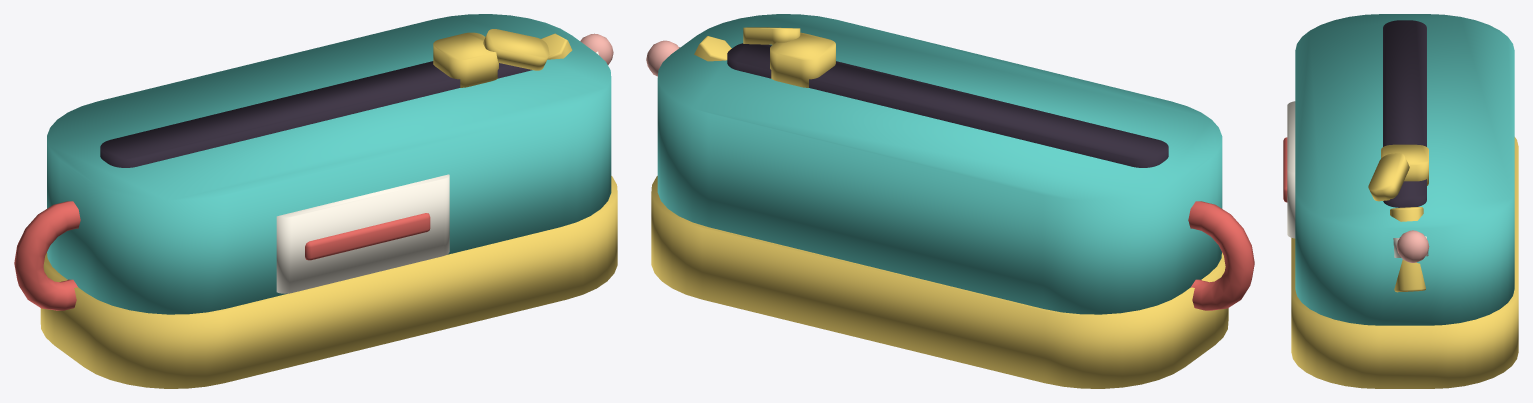
Rendered from pencil-case.glb.
3 renders of one model, left to right at view 1: azimuth 30°, elevation 25°; view 2: azimuth 150°, elevation 25°; view 3: azimuth 270°, elevation 25°, orthographic. The views are drawn at different scales.
Visible parts, largest first — view 1: ClutterPencilCase_Body, ClutterPencilCase_ButterTrim, ClutterPencilCase_ZipperAndPad, ClutterPencilCase_CreamTag, ClutterPencilCase_CoralAccents, ClutterPencilCase_PeachEraser; view 2: ClutterPencilCase_Body, ClutterPencilCase_ButterTrim, ClutterPencilCase_ZipperAndPad, ClutterPencilCase_CoralAccents, ClutterPencilCase_PeachEraser; view 3: ClutterPencilCase_Body, ClutterPencilCase_ButterTrim, ClutterPencilCase_ZipperAndPad, ClutterPencilCase_CreamTag, ClutterPencilCase_PeachEraser, ClutterPencilCase_CoralAccents.
Boxes of the visible parts, box(x1,y1,x2,y2) form: ClutterPencilCase_Body: box(47, 14, 611, 314); ClutterPencilCase_ButterTrim: box(40, 29, 617, 388); ClutterPencilCase_ZipperAndPad: box(100, 61, 532, 167); ClutterPencilCase_CreamTag: box(276, 51, 598, 293); ClutterPencilCase_CoralAccents: box(14, 201, 430, 310); ClutterPencilCase_PeachEraser: box(580, 33, 613, 64); ClutterPencilCase_Body: box(657, 14, 1222, 314); ClutterPencilCase_ButterTrim: box(651, 27, 1228, 388); ClutterPencilCase_ZipperAndPad: box(727, 43, 1168, 167); ClutterPencilCase_CoralAccents: box(1188, 201, 1254, 310); ClutterPencilCase_PeachEraser: box(646, 40, 679, 76); ClutterPencilCase_Body: box(1295, 14, 1514, 325); ClutterPencilCase_ButterTrim: box(1291, 137, 1518, 388); ClutterPencilCase_ZipperAndPad: box(1383, 20, 1426, 207); ClutterPencilCase_CreamTag: box(1287, 101, 1428, 257); ClutterPencilCase_PeachEraser: box(1396, 230, 1429, 262); ClutterPencilCase_CoralAccents: box(1283, 137, 1287, 202).
Size of the model in its own units: 0.2977 by 0.1105 by 0.118.
